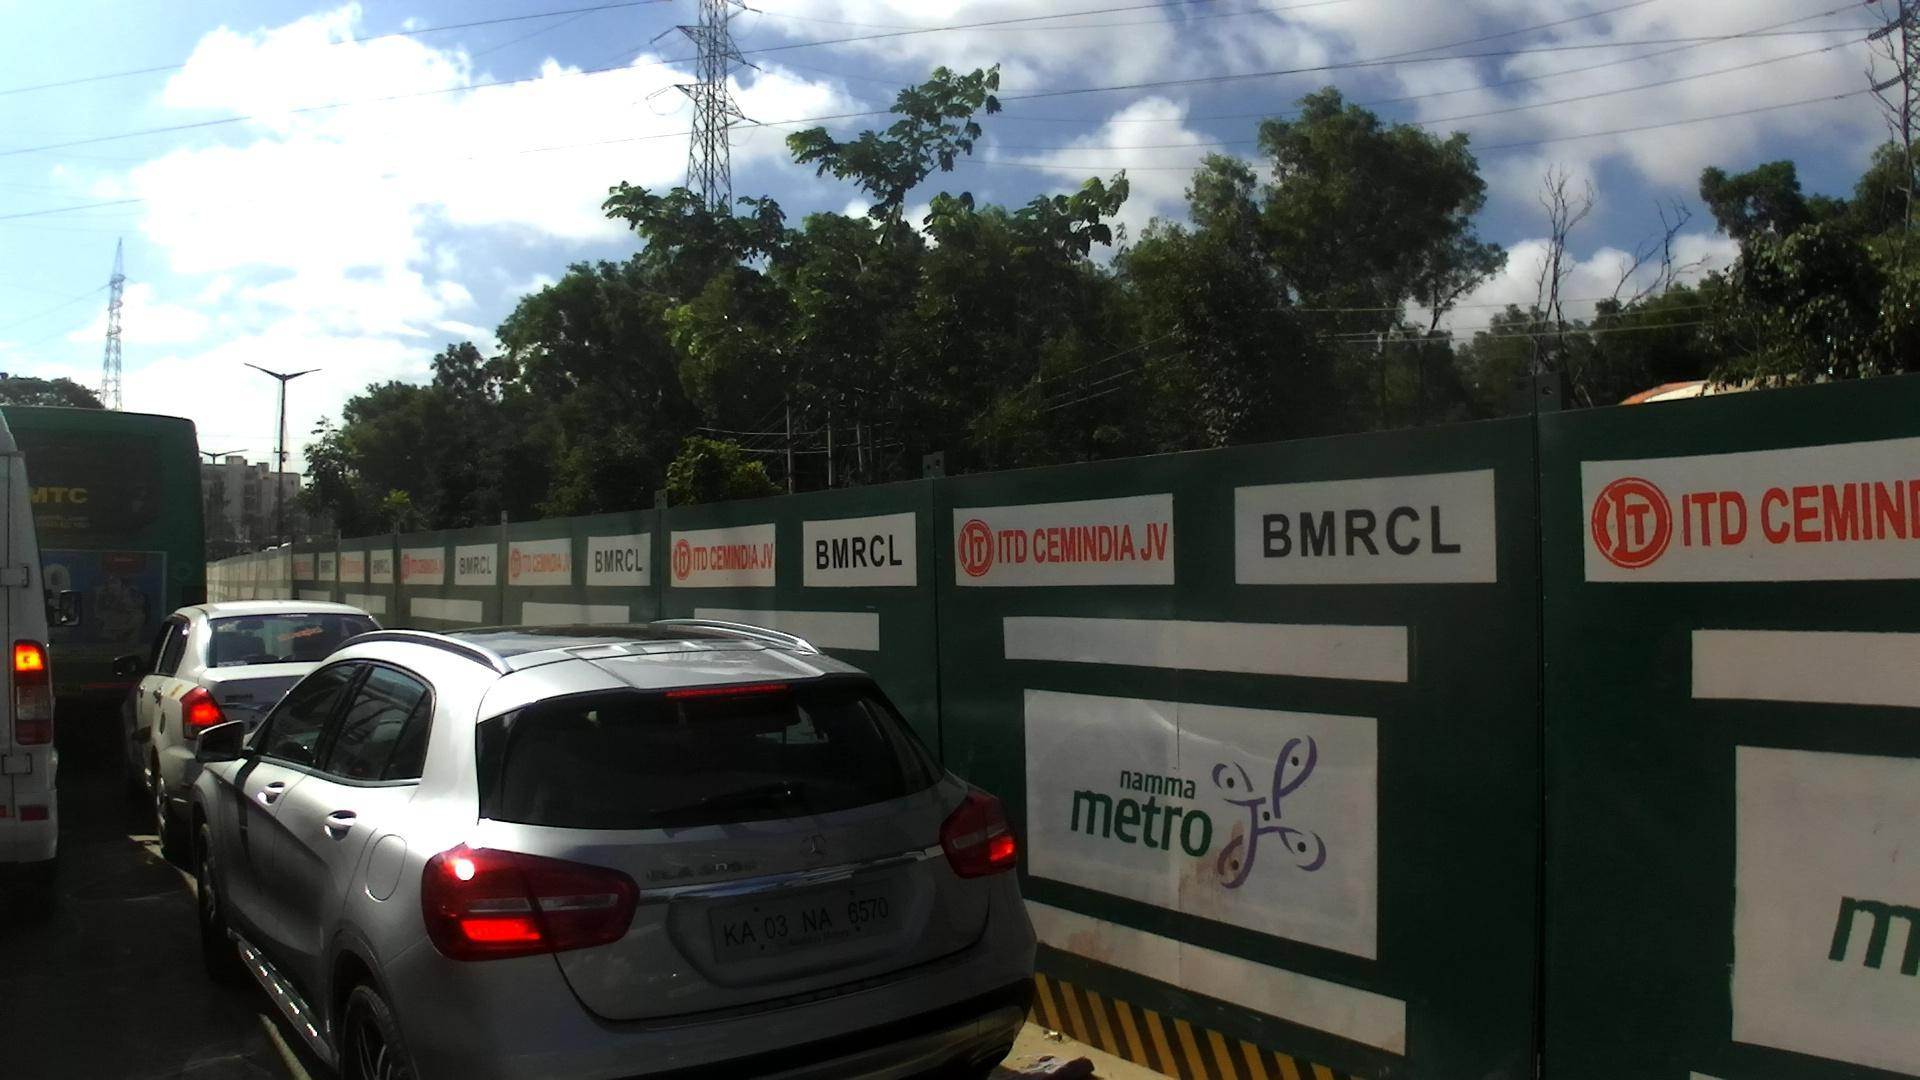off: (0, 0, 1671, 1080)
